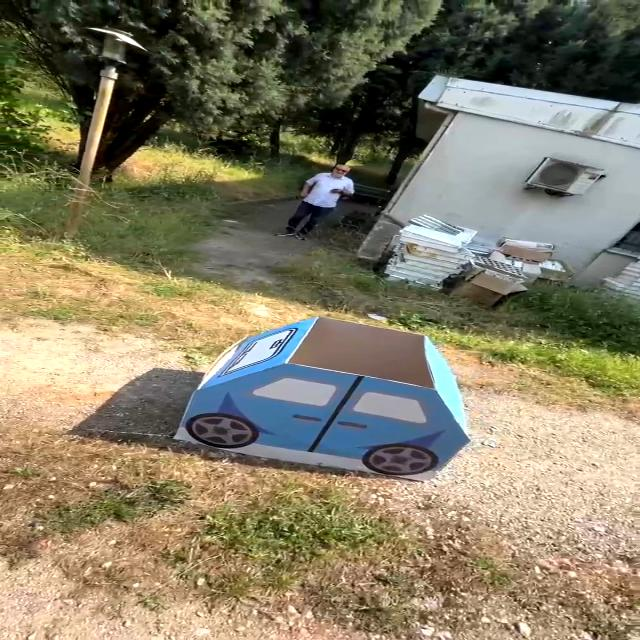blue_car: (144, 299, 501, 494)
